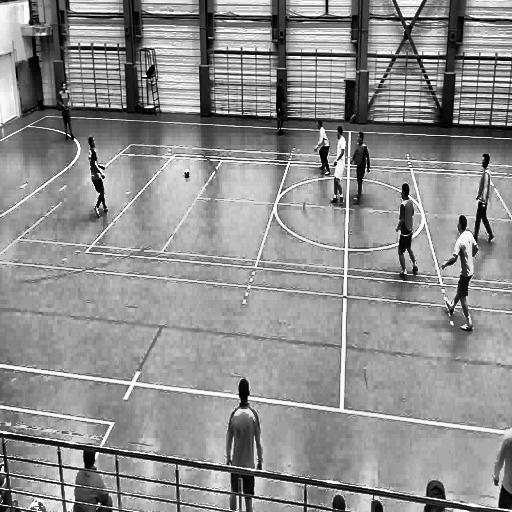ball: (182, 166, 191, 182)
player: (223, 375, 264, 512), (438, 216, 479, 336), (394, 182, 420, 286), (492, 395, 512, 512), (473, 150, 495, 246), (88, 135, 111, 221), (350, 130, 371, 207), (329, 124, 347, 208), (58, 78, 74, 146), (312, 119, 328, 177), (275, 74, 288, 140)
